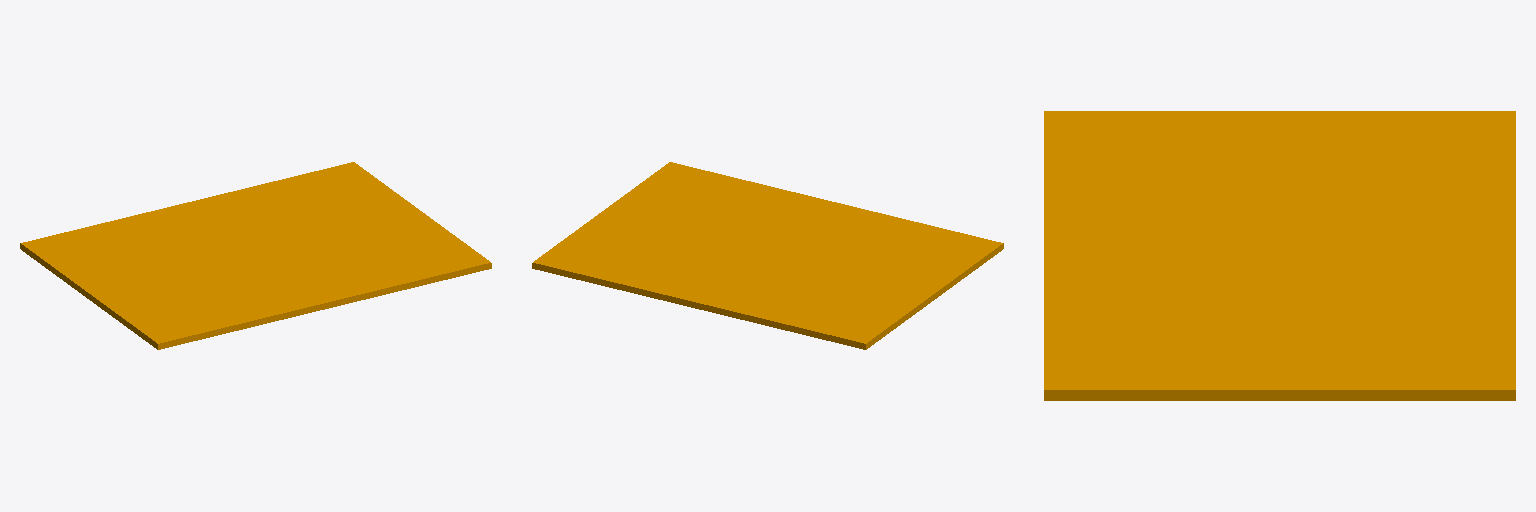
URDF robot description (kit.urdf):
<?xml version="0.0" ?>
<robot name="kit.urdf">
  <link name="baseLink">
    <contact>
      <lateral_friction value="1.0"/>
      <rolling_friction value="0.0001"/>
      <inertia_scaling value="3.0"/>
    </contact>
    <inertial>
      <origin rpy="0 0 0" xyz="0 0 0"/>
       <mass value=".1"/>
       <inertia ixx="1" ixy="0" ixz="0" iyy="1" iyz="0" izz="1"/>
    </inertial>
    <visual>
      <origin rpy="0 0 0" xyz="0 0 0"/>
      <geometry>
        <box size=".28 .2 .005"/>
      </geometry>
    </visual>
    <collision>
      <origin rpy="0 0 0" xyz="0 0 0"/>
      <geometry>
        <box size=".28 .2 .005"/>
      </geometry>
    </collision>
  </link>
</robot>

--- Facts derived from the render (not from the file) ---
3 views of the same robot in one strip: view 1: azimuth 30°, elevation 25°; view 2: azimuth 150°, elevation 25°; view 3: azimuth 270°, elevation 25° (orthographic).
Robot: kit.urdf — 1 links, 0 joints (none); root link baseLink; default pose: all joints at 0.
Visible links, largest first — view 1: baseLink; view 2: baseLink; view 3: baseLink.
Link boxes in pixels (<box>): baseLink: <box>20,162,491,349</box>; baseLink: <box>532,162,1003,349</box>; baseLink: <box>1044,111,1515,400</box>.
Size in the robot's own frame: 0.28 by 0.2 by 0.005 metres.
Geometry: primitives only (box / cylinder / sphere), no mesh files.